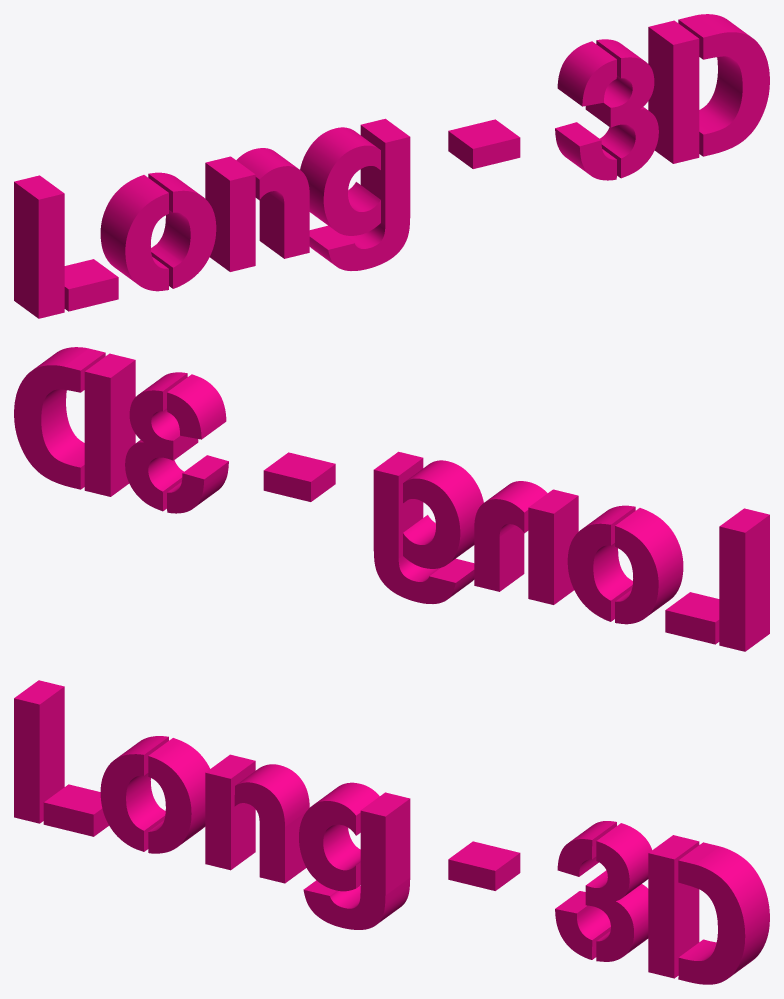
Rendered from long3d.dae.
3 views of the same model, one above another, from view 1: azimuth 30°, elevation 25°; view 2: azimuth 150°, elevation 25°; view 3: azimuth 330°, elevation 25° (orthographic).
Parts seen in each view (by area): view 1: Cap_1, Extrude; view 2: Cap_2, Extrude; view 3: Cap_1, Extrude.
Part boxes in pixels (x1=…): Cap_1: x1=38, y1=32, x2=769, y2=318; Extrude: x1=14, y1=14, x2=750, y2=318; Cap_2: x1=14, y1=365, x2=745, y2=651; Extrude: x1=33, y1=347, x2=769, y2=651; Cap_1: x1=14, y1=698, x2=745, y2=984; Extrude: x1=14, y1=680, x2=769, y2=978.
Size of the model in its own units: 907 by 177 by 53.2.
